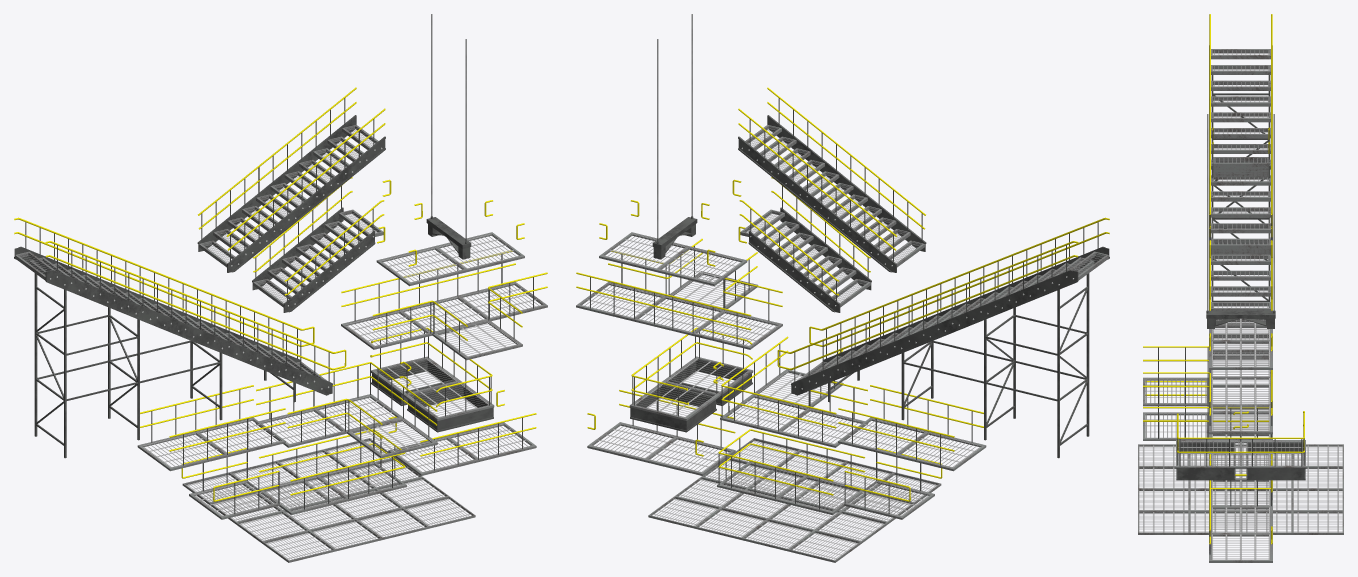
Rendered from poppy_playtime_chapter_1__catwalks.glb.
3 views of the same model, side by side, from view 1: azimuth 30°, elevation 25°; view 2: azimuth 150°, elevation 25°; view 3: azimuth 270°, elevation 25° (orthographic). The views are drawn at different scales.
Parts seen in each view (by area): view 1: stairs_c.mo, SM_Catwalk_Platform.mo, stairs_d.mo, SM_Catwalk_T.mo, stairs_d_short.mo, stairs_d_platform.mo, SM_Catwalk_Corner.mo, SM_Catwalk_EndClosed.mo, SM_Catwalk_Straight.mo, SM_Catwalk_OpenHalf.mo, SM_Catwalk_OpenFull.mo, SM_Catwalk_EndOpen.mo (+1 smaller); view 2: stairs_c.mo, SM_Catwalk_Platform.mo, stairs_d.mo, SM_Catwalk_T.mo, stairs_d_short.mo, stairs_d_platform.mo, SM_Catwalk_Corner.mo, SM_Catwalk_EndClosed.mo, SM_Catwalk_Straight.mo, SM_Catwalk_OpenHalf.mo, SM_Catwalk_OpenFull.mo, SM_Catwalk_EndOpen.mo (+1 smaller); view 3: stairs_c.mo, SM_Catwalk_Platform.mo, SM_Catwalk_T.mo, stairs_d_platform.mo, SM_Catwalk_Corner.mo, SM_Catwalk_OpenHalf.mo, SM_Catwalk_OpenFull.mo, SM_Catwalk_EndClosed.mo, SM_Catwalk_Support.mo, stairs_d.mo, stairs_d_short.mo, SM_Catwalk_Straight.mo (+1 smaller).
Part boxes in pixels (x1,y1,x2,y2): stairs_c.mo: (14, 217, 346, 458); SM_Catwalk_Platform.mo: (182, 438, 475, 562); stairs_d.mo: (197, 87, 385, 272); SM_Catwalk_T.mo: (341, 250, 547, 360); stairs_d_short.mo: (252, 177, 384, 312); stairs_d_platform.mo: (370, 327, 494, 432); SM_Catwalk_Corner.mo: (255, 362, 437, 458); SM_Catwalk_EndClosed.mo: (258, 429, 406, 514); SM_Catwalk_Straight.mo: (137, 385, 285, 471); SM_Catwalk_OpenHalf.mo: (388, 390, 536, 475); SM_Catwalk_OpenFull.mo: (376, 200, 524, 286); SM_Catwalk_EndOpen.mo: (181, 447, 279, 519); stairs_c.mo: (777, 217, 1109, 458); SM_Catwalk_Platform.mo: (648, 438, 941, 562); stairs_d.mo: (738, 87, 926, 272); SM_Catwalk_T.mo: (576, 238, 782, 349); stairs_d_short.mo: (739, 177, 871, 312); stairs_d_platform.mo: (629, 327, 753, 432); SM_Catwalk_Corner.mo: (720, 336, 868, 447); SM_Catwalk_EndClosed.mo: (717, 429, 865, 514); SM_Catwalk_Straight.mo: (838, 385, 986, 471); SM_Catwalk_OpenHalf.mo: (587, 390, 735, 475); SM_Catwalk_OpenFull.mo: (599, 200, 747, 286); SM_Catwalk_EndOpen.mo: (844, 447, 942, 519); stairs_c.mo: (1209, 14, 1272, 359); SM_Catwalk_Platform.mo: (1138, 444, 1343, 534); SM_Catwalk_T.mo: (1143, 346, 1272, 434); stairs_d_platform.mo: (1176, 411, 1305, 480); SM_Catwalk_Corner.mo: (1143, 381, 1272, 440); SM_Catwalk_OpenHalf.mo: (1209, 480, 1272, 562); SM_Catwalk_OpenFull.mo: (1209, 281, 1272, 369); SM_Catwalk_EndClosed.mo: (1209, 453, 1272, 506); SM_Catwalk_Support.mo: (1206, 114, 1275, 328); stairs_d.mo: (1211, 127, 1270, 178); stairs_d_short.mo: (1209, 212, 1272, 255); SM_Catwalk_Straight.mo: (1213, 323, 1268, 376).
Bounding box in the file's own units: 13.67 × 11.61 × 5.
6 materials, 5 textured.
